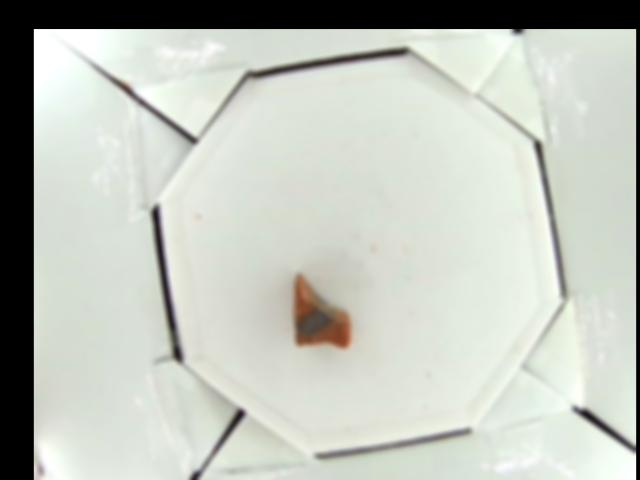Brisk: (294, 274, 351, 351)
